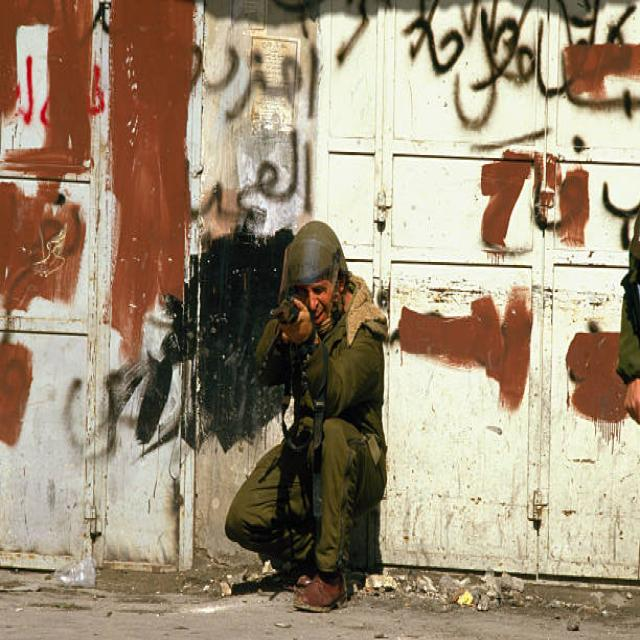soldier: (230, 228, 389, 640)
